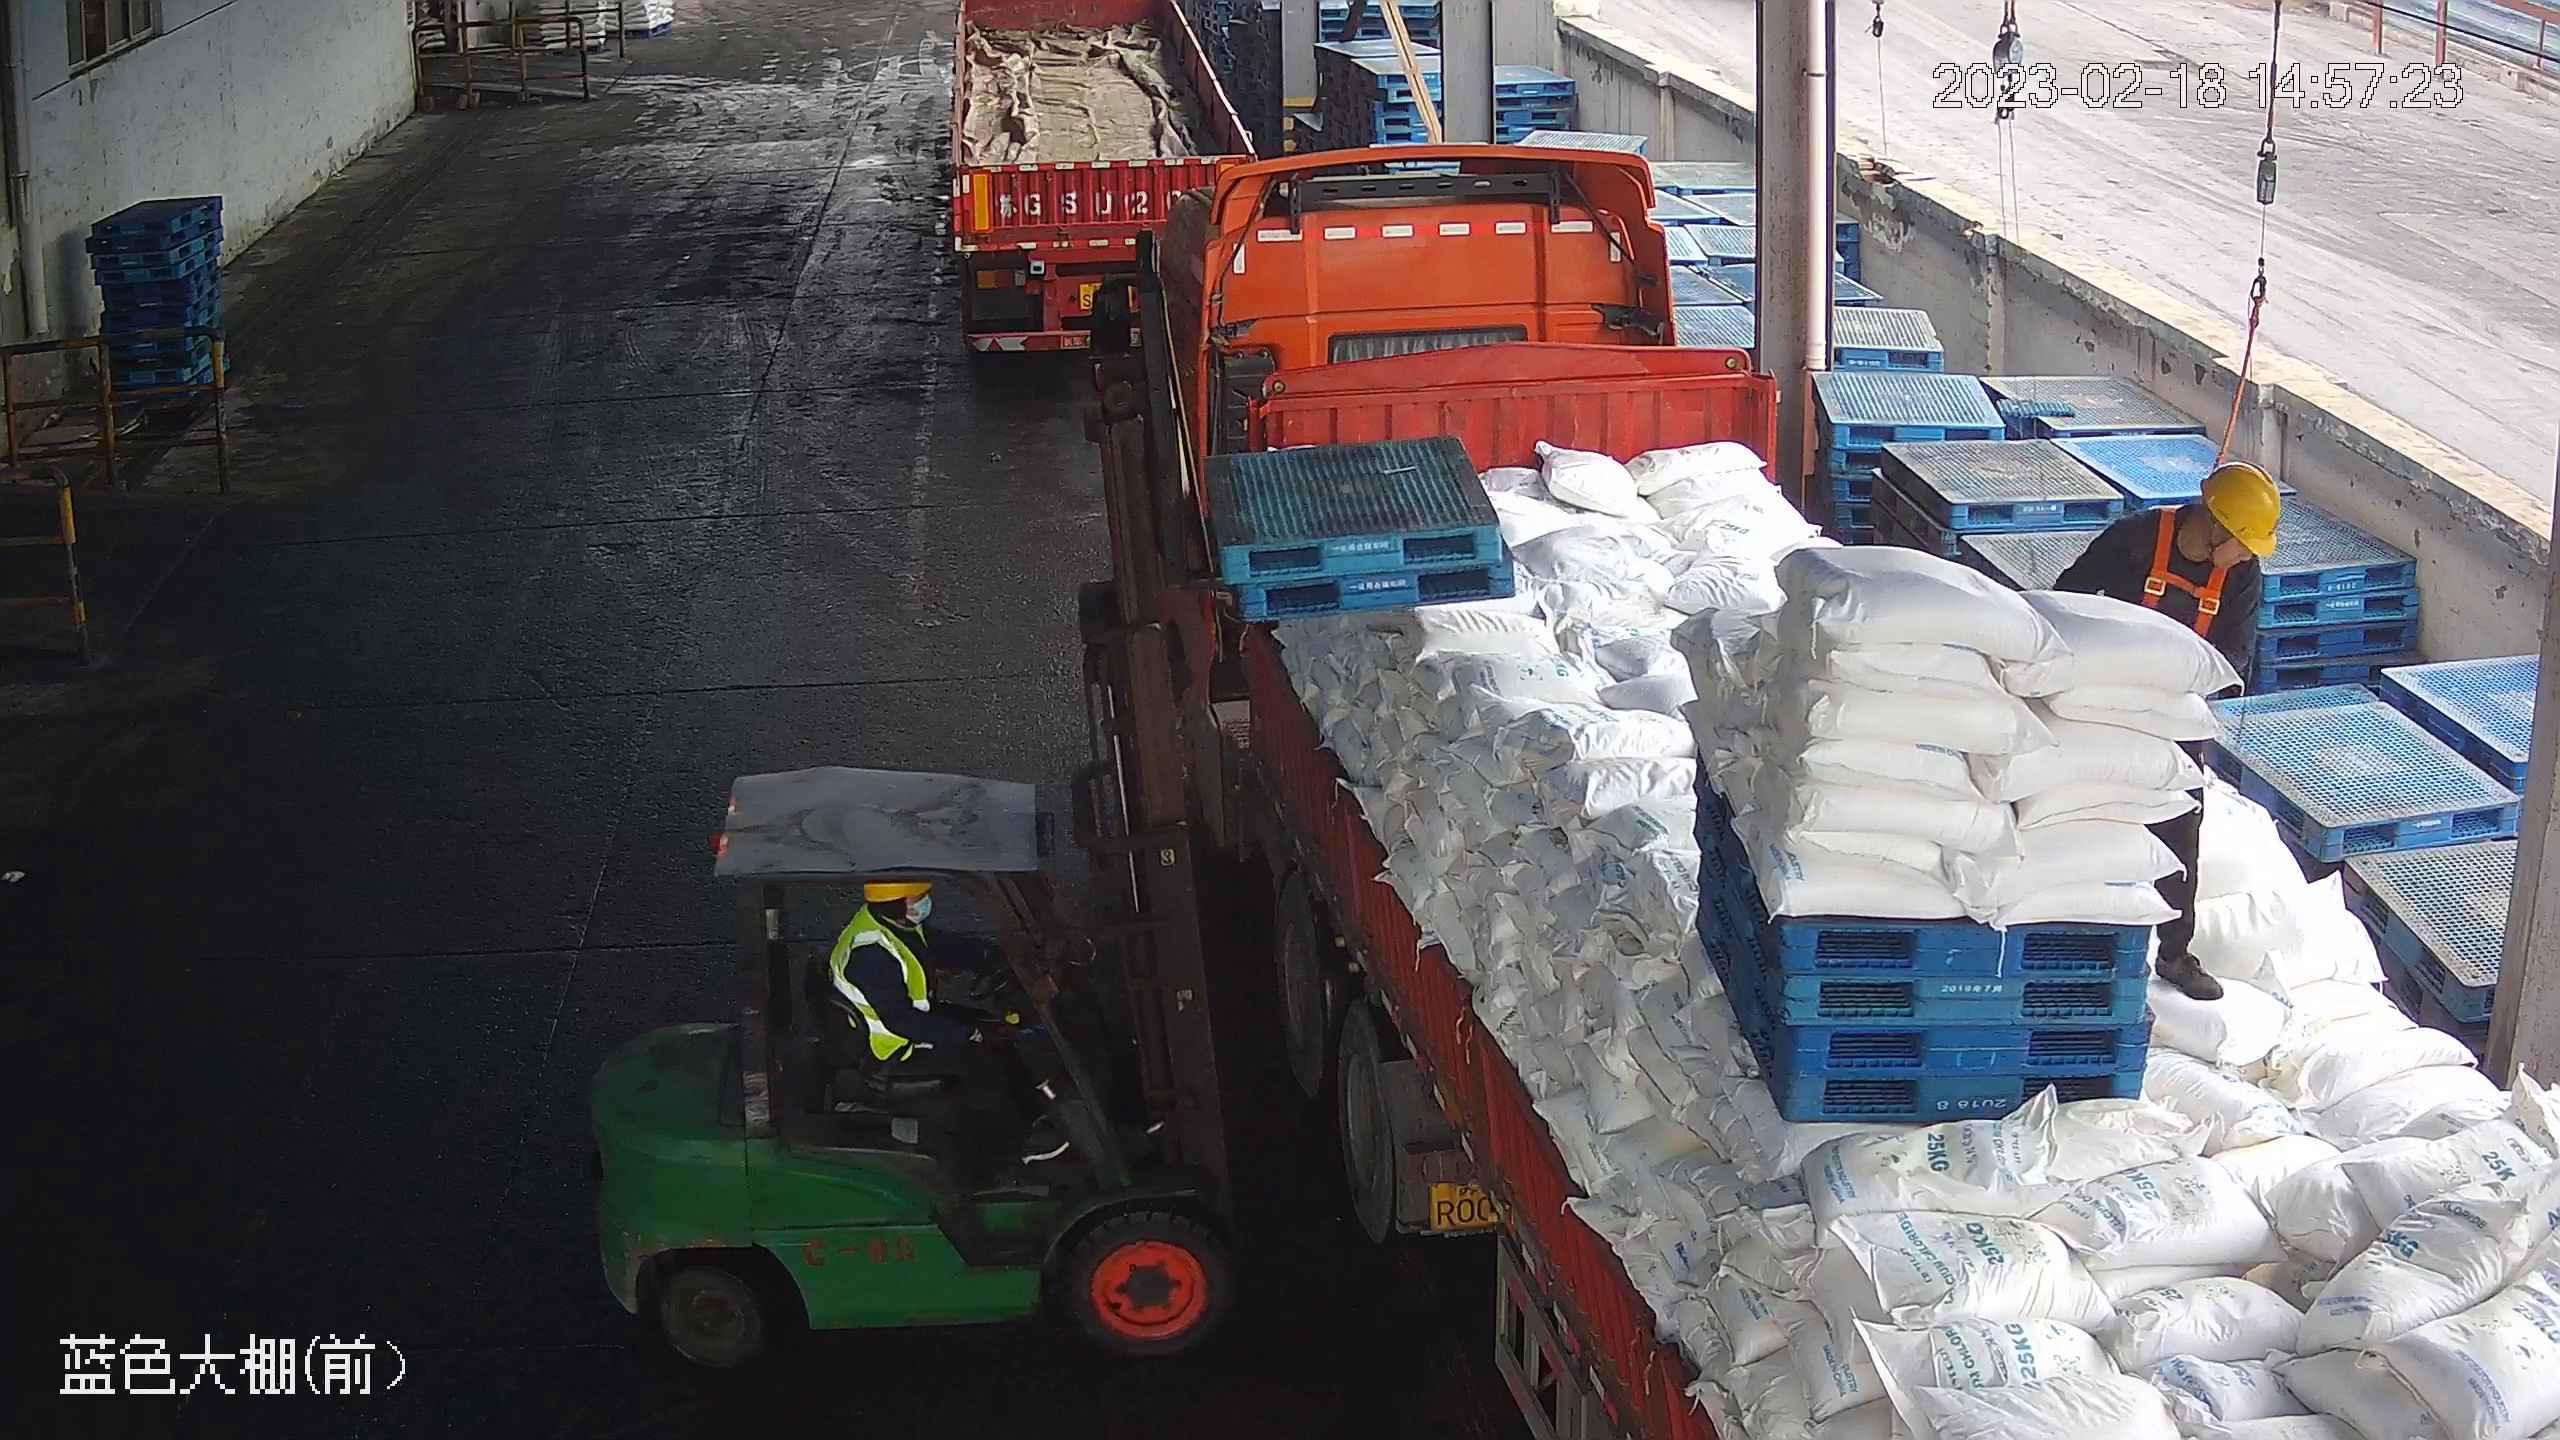belt: (2142, 508, 2237, 635)
head: (2094, 457, 2282, 597)
helmet: (2201, 459, 2288, 558)
people: (2052, 448, 2282, 1007), (829, 875, 1069, 1158)
truck: (1088, 153, 2558, 1440), (929, 1, 1288, 372)
